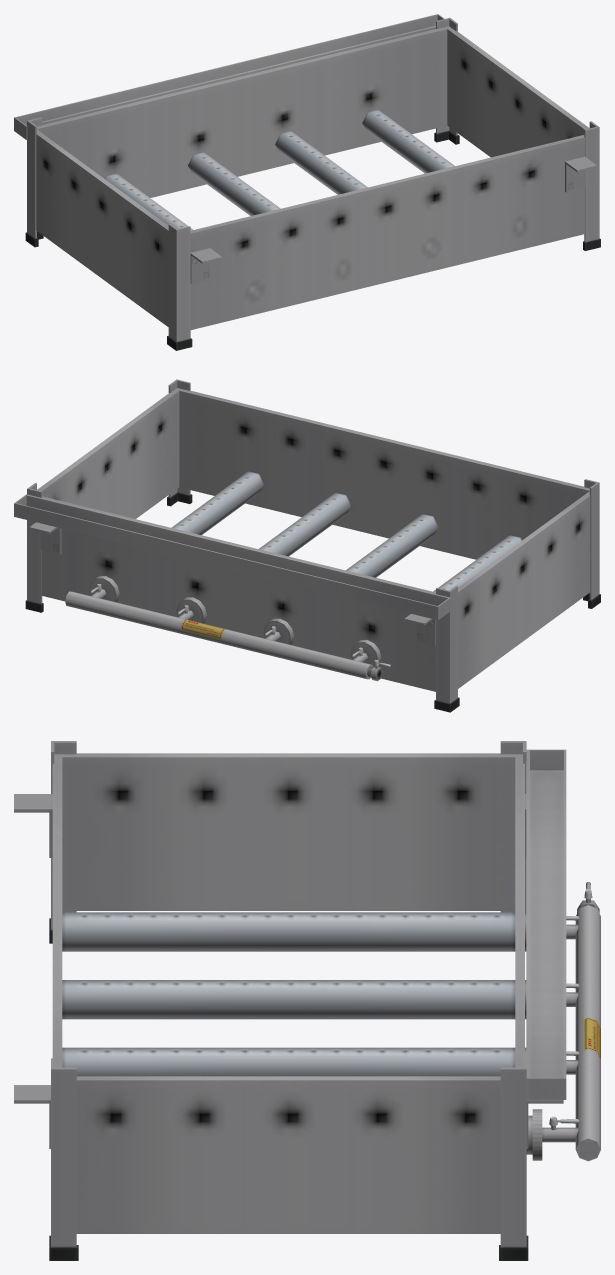
The model's file is jsf_GasRange_01full.fbx.
The picture shows the model from 3 angles, top to bottom: view 1: azimuth 30°, elevation 25°; view 2: azimuth 150°, elevation 25°; view 3: azimuth 270°, elevation 25°; orthographic projection. The views are drawn at different scales.
Visible parts, largest first — view 1: GasRange01, Dustpan01, Stopper01; view 2: GasRange01, Dustpan01, Stopper01, AdjustmentDial_02, AdjustmentDial_03, AdjustmentDial_04, AdjustmentDial_01; view 3: GasRange01, Dustpan01, Stopper01.
Boxes of the visible parts, bbox=[...] form: GasRange01: bbox=[25, 17, 600, 350]; Dustpan01: bbox=[14, 14, 444, 139]; Stopper01: bbox=[190, 156, 596, 283]; GasRange01: bbox=[25, 379, 600, 712]; Dustpan01: bbox=[14, 494, 450, 620]; Stopper01: bbox=[29, 522, 435, 645]; AdjustmentDial_02: bbox=[263, 618, 293, 644]; AdjustmentDial_03: bbox=[176, 597, 206, 623]; AdjustmentDial_04: bbox=[89, 576, 119, 601]; AdjustmentDial_01: bbox=[350, 640, 381, 667]; GasRange01: bbox=[49, 741, 600, 1260]; Dustpan01: bbox=[526, 749, 566, 1099]; Stopper01: bbox=[14, 794, 563, 1148].
Size of the model in its own units: 90.7 by 24.5 by 68.26.
